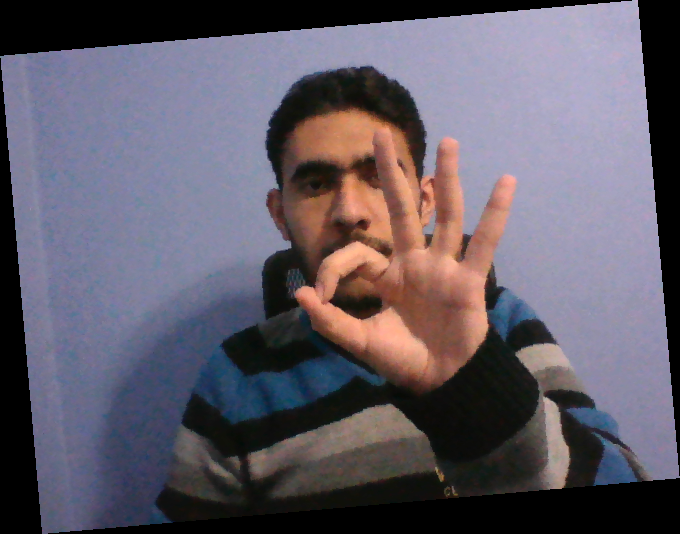F: (290, 126, 517, 399)
